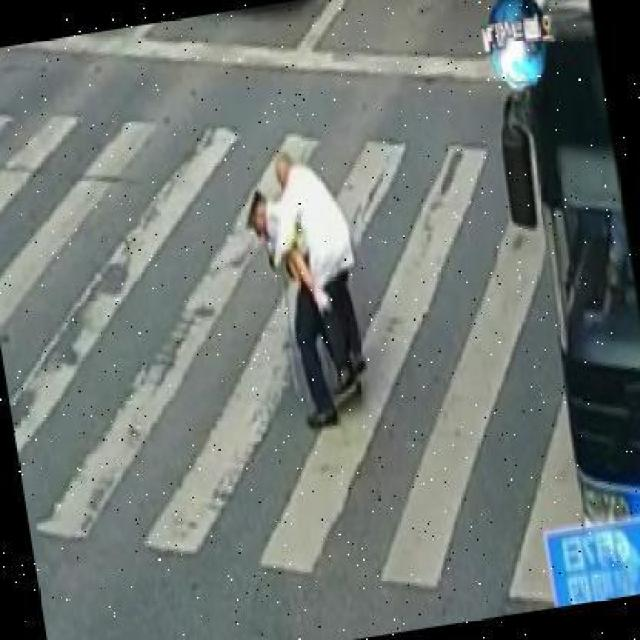Person: (262, 142, 378, 409)
